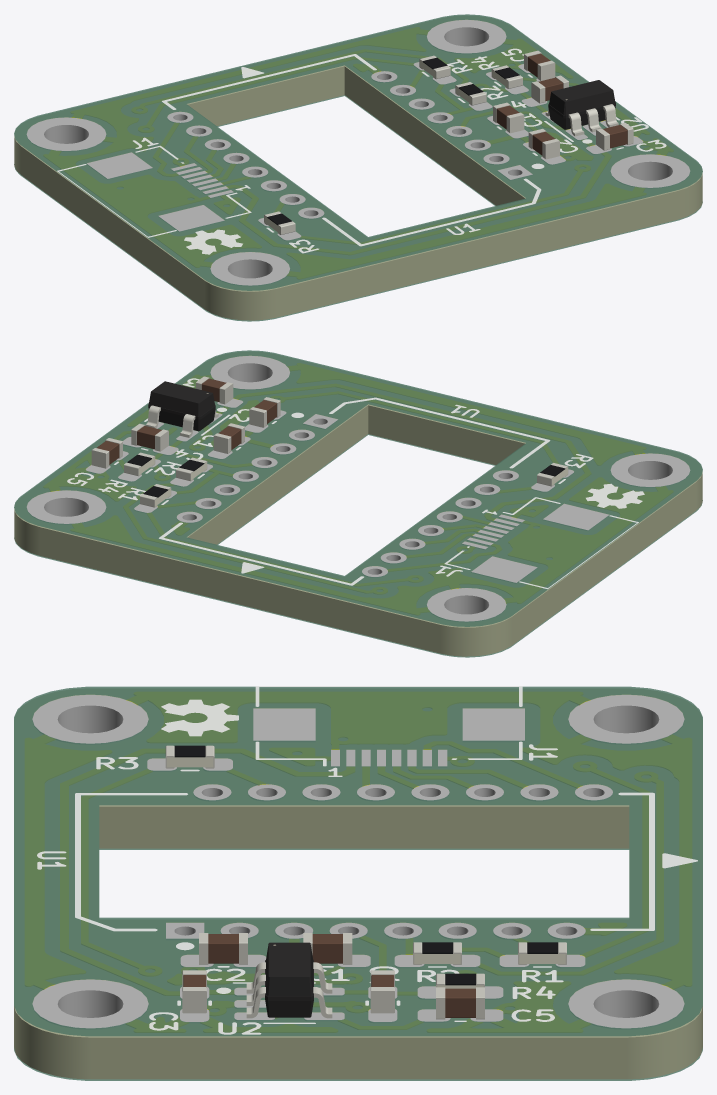
File: board.glb
3 views of the same model, one above another, from view 1: azimuth 30°, elevation 25°; view 2: azimuth 150°, elevation 25°; view 3: azimuth 270°, elevation 25° (orthographic). The views are drawn at different scales.
Visible parts, largest first — view 1: board_soldermask (×2), board_PCB, board_copper, board_pad, board_silkscreen, C_0603_1608Metric (×5), SOT-23-5, R_0603_1608Metric (×4); view 2: board_soldermask (×2), board_PCB, board_copper, board_pad, board_silkscreen, C_0603_1608Metric (×5), SOT-23-5, R_0603_1608Metric (×4); view 3: board_soldermask (×2), board_PCB, board_copper, board_pad, board_silkscreen, C_0603_1608Metric (×5), SOT-23-5, R_0603_1608Metric (×4).
Part boxes in pixels (bbox=[...]): board_soldermask (×2): bbox=[14, 14, 702, 321]; board_PCB: bbox=[14, 16, 702, 320]; board_copper: bbox=[43, 27, 672, 278]; board_pad: bbox=[26, 20, 690, 285]; board_silkscreen: bbox=[57, 48, 666, 254]; C_0603_1608Metric (×5): bbox=[493, 50, 633, 159]; SOT-23-5: bbox=[545, 80, 618, 136]; R_0603_1608Metric (×4): bbox=[264, 55, 522, 234]; board_soldermask (×2): bbox=[14, 350, 702, 657]; board_PCB: bbox=[14, 352, 702, 656]; board_copper: bbox=[44, 363, 672, 614]; board_pad: bbox=[26, 356, 690, 621]; board_silkscreen: bbox=[67, 378, 644, 589]; C_0603_1608Metric (×5): bbox=[91, 376, 280, 468]; SOT-23-5: bbox=[145, 381, 218, 437]; R_0603_1608Metric (×4): bbox=[124, 452, 568, 507]; board_soldermask (×2): bbox=[14, 686, 702, 1080]; board_PCB: bbox=[14, 689, 702, 1079]; board_copper: bbox=[25, 692, 691, 1032]; board_pad: bbox=[32, 695, 684, 1028]; board_silkscreen: bbox=[37, 686, 697, 1034]; C_0603_1608Metric (×5): bbox=[182, 933, 484, 1019]; SOT-23-5: bbox=[246, 942, 332, 1018]; R_0603_1608Metric (×4): bbox=[165, 745, 566, 988].
Size of the model in its own units: 0.027 by 0.00322 by 0.0225.
